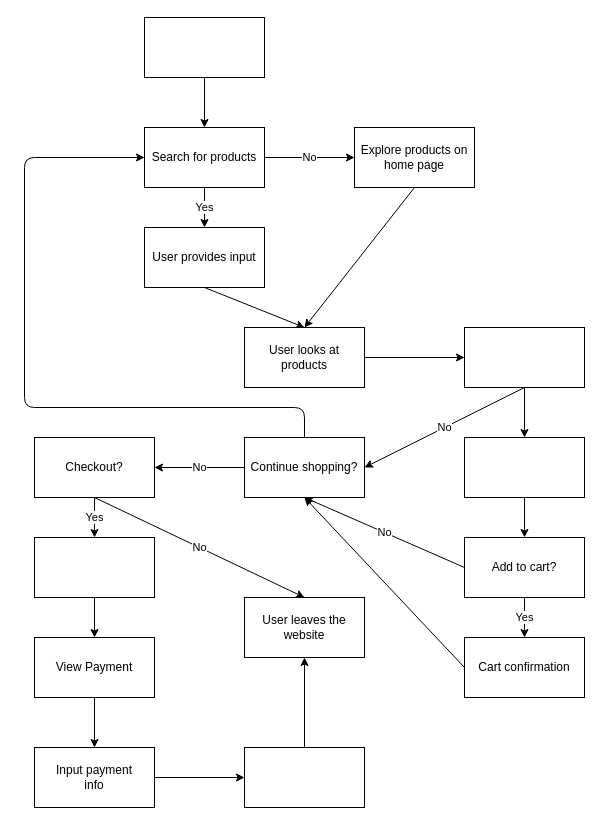
Image size: 602x825. Some labels were removed from this diagram. Here are the shapes that lost their labels. From the top down, the box of each, then its label:
(144, 16, 264, 78): User enters the website
(464, 326, 584, 388): View specific product
(464, 436, 584, 498): View product page
(34, 536, 154, 598): View Cart
(244, 746, 364, 808): Confirmation screen and email
